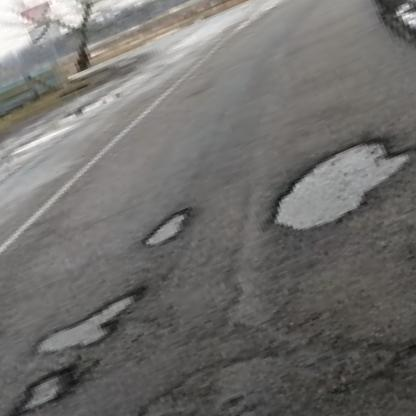pothole: (255, 120, 416, 245), (23, 281, 161, 367), (0, 360, 80, 416), (132, 205, 198, 255)
